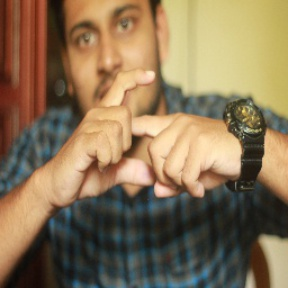E: (86, 65, 183, 197)
